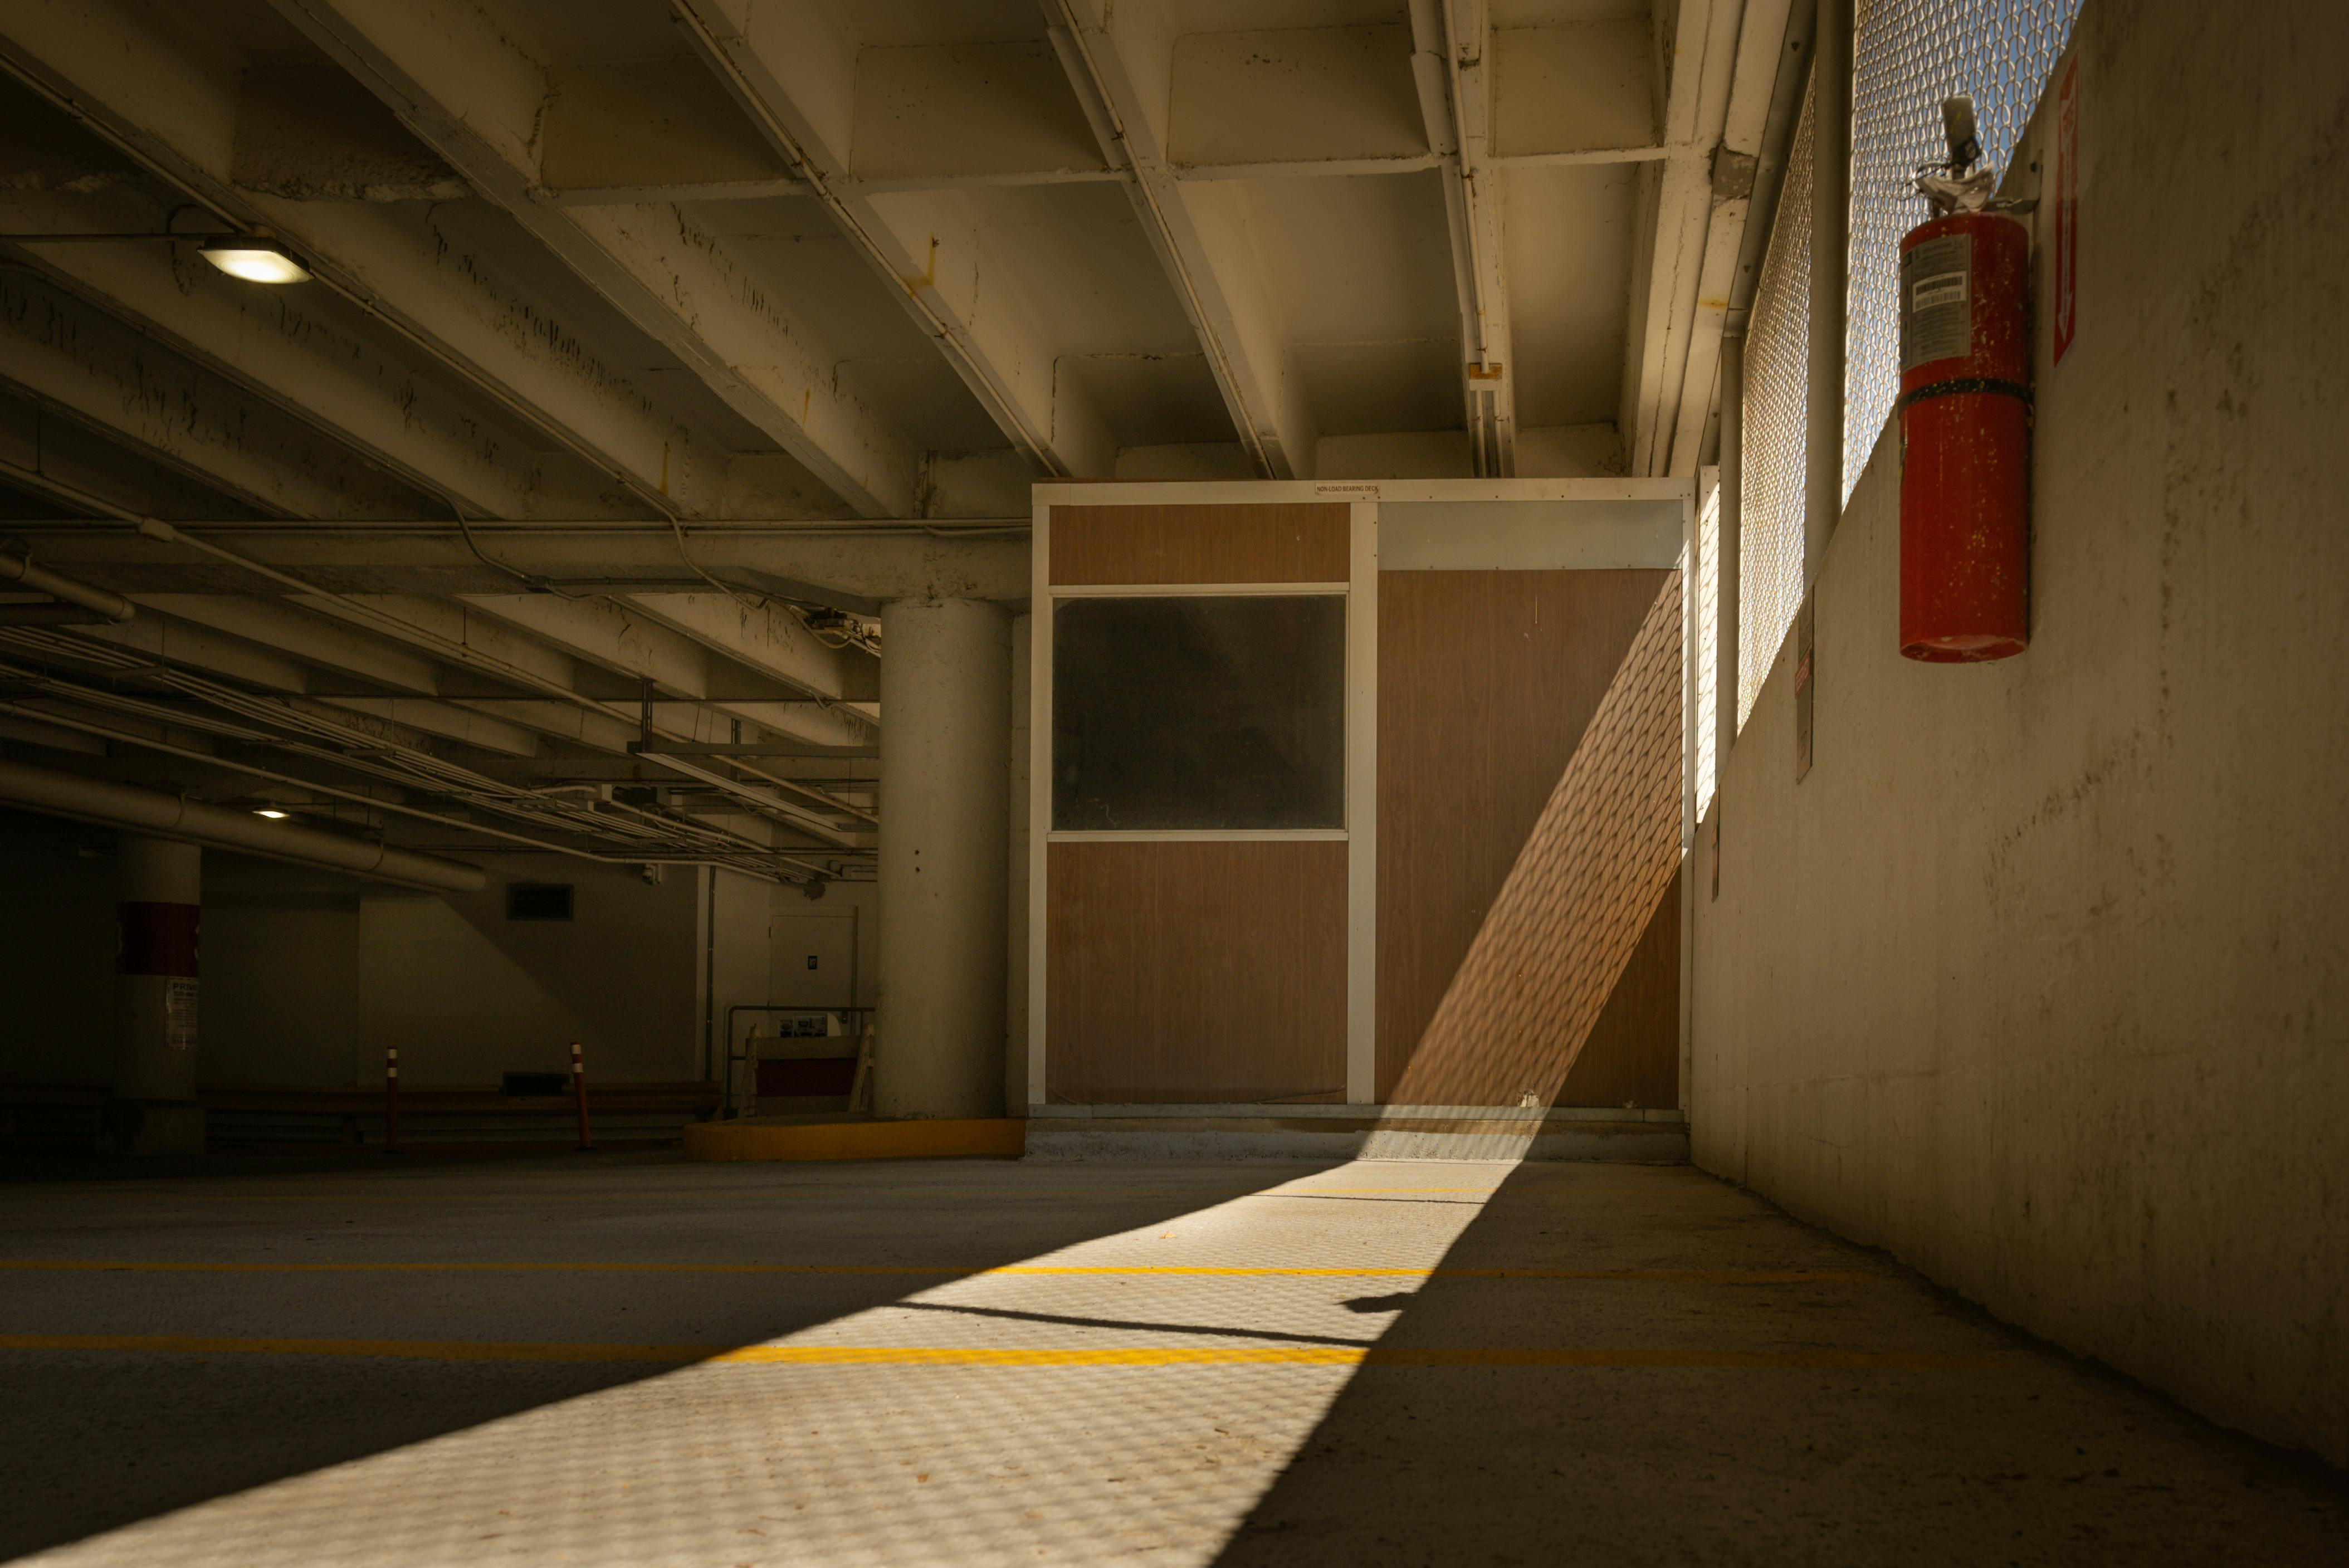extintor: (1889, 89, 2050, 674)
